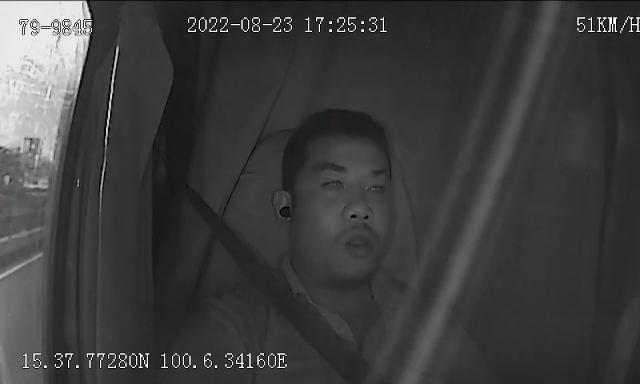SafeDriving: (316, 166, 349, 196), (361, 170, 392, 200)
Seatbelt: (168, 168, 356, 384)
